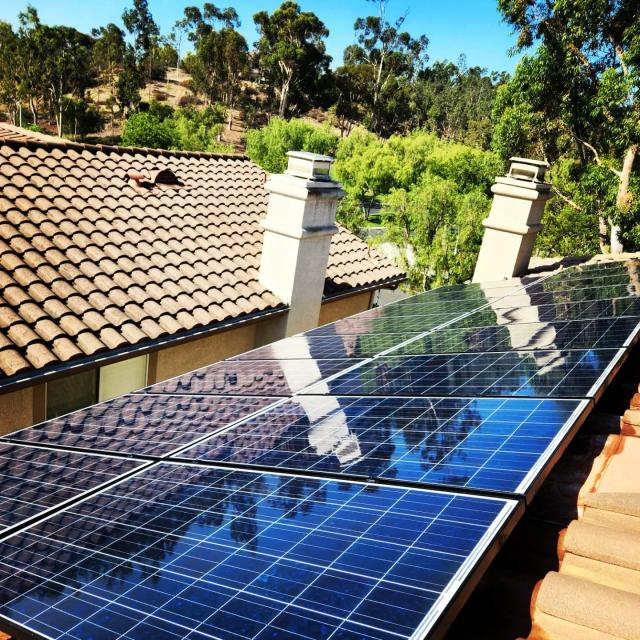clean-solar-panel: (0, 261, 640, 640)
